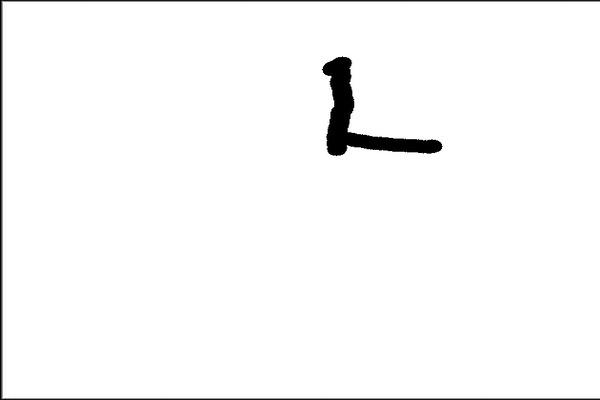L: (314, 51, 449, 163)
